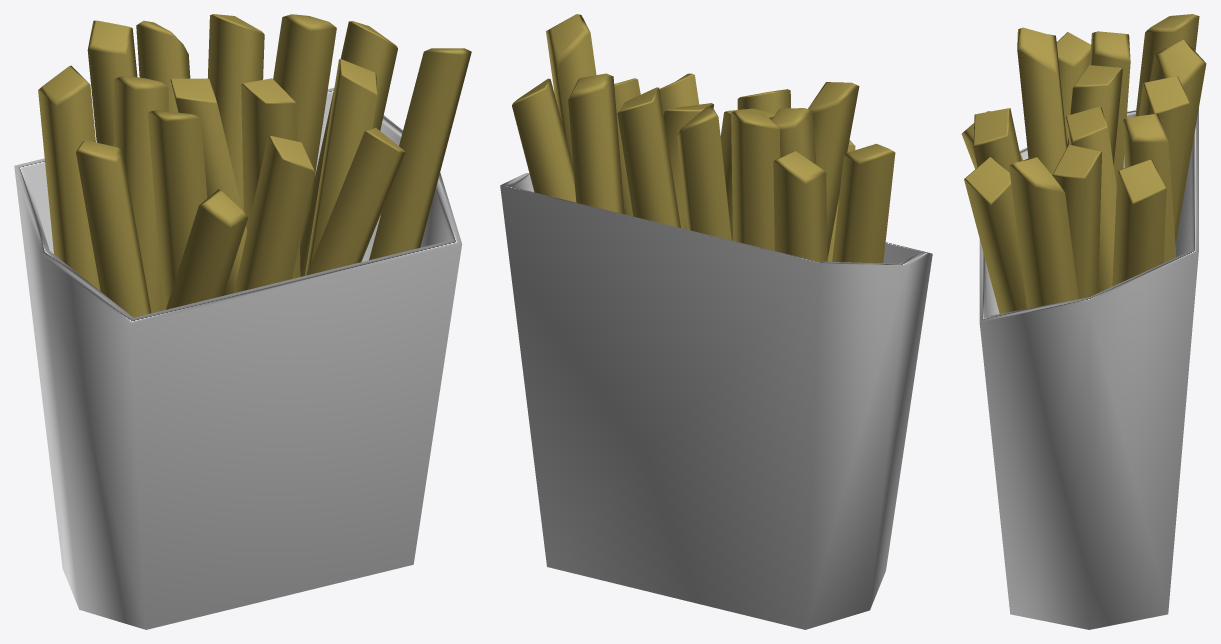
Rendered from Fries_UVed.fbx.
The picture shows the model from 3 angles, left to right: view 1: azimuth 30°, elevation 25°; view 2: azimuth 150°, elevation 25°; view 3: azimuth 270°, elevation 25°; orthographic projection. The views are drawn at different scales.
Parts seen in each view (by area): view 1: pCube1, pCube10, pCube5, pCube9, pCube15, pCube7, pCube16, pCube8, pCube14, pCube17, pCube2, pCube6 (+5 smaller); view 2: pCube1, pCube14, pCube9, pCube12, pCube6, pCube5, pCube3, pCube11, pCube7, pCube10, pCube8, pCube13 (+4 smaller); view 3: pCube1, pCube10, pCube16, pCube11, pCube7, pCube17, pCube13, pCube6, pCube14, pCube3, pCube4, pCube8 (+3 smaller).
Boxes of the visible parts, box(x1,y1,x2,y2) form: pCube1: box(14, 88, 462, 629); pCube10: box(369, 48, 471, 260); pCube5: box(38, 65, 100, 290); pCube9: box(76, 140, 151, 317); pCube15: box(234, 136, 314, 292); pCube7: box(147, 110, 207, 310); pCube16: box(306, 127, 405, 275); pCube8: box(113, 75, 168, 313); pCube14: box(273, 14, 336, 245); pCube17: box(305, 59, 377, 275); pCube2: box(166, 189, 247, 309); pCube6: box(207, 14, 264, 211); pCube1: box(500, 173, 932, 629); pCube14: box(568, 73, 624, 214); pCube9: box(832, 143, 895, 263); pCube12: box(731, 110, 780, 250); pCube6: box(617, 87, 680, 227); pCube5: box(773, 151, 827, 261); pCube3: box(677, 106, 731, 240); pCube11: box(512, 78, 576, 202); pCube7: box(808, 82, 859, 257); pCube10: box(546, 14, 596, 164); pCube8: box(771, 108, 816, 164); pCube13: box(663, 103, 713, 229); pCube1: box(979, 108, 1198, 629); pCube10: box(1009, 155, 1078, 308); pCube16: box(964, 156, 1026, 313); pCube11: box(1112, 159, 1166, 286); pCube7: box(1017, 27, 1067, 174); pCube17: box(1052, 144, 1101, 298); pCube13: box(1065, 106, 1116, 292); pCube6: box(1139, 76, 1189, 230); pCube14: box(1122, 113, 1176, 263); pCube3: box(1150, 39, 1206, 244); pCube4: box(1067, 65, 1122, 164); pCube8: box(1089, 31, 1130, 185).
Size of the model in its own units: 13.84 by 17.46 by 7.71.
